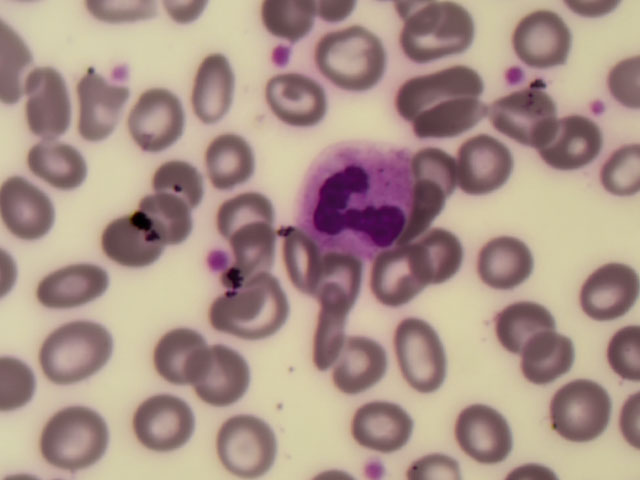Platelets: (361, 461, 399, 480), (270, 40, 295, 68), (205, 249, 232, 268), (504, 64, 524, 86), (109, 61, 130, 80), (588, 98, 607, 118)
RBC: (292, 136, 418, 250), (19, 69, 78, 122), (29, 135, 88, 188), (7, 184, 66, 237), (48, 260, 107, 313), (51, 326, 110, 379), (39, 404, 98, 457), (121, 398, 180, 451), (147, 331, 206, 384), (184, 350, 243, 403), (224, 286, 283, 339), (236, 221, 295, 274), (209, 184, 268, 237), (198, 134, 257, 187), (189, 50, 248, 103), (129, 85, 188, 138), (155, 148, 214, 201), (132, 193, 191, 246), (98, 222, 157, 275), (272, 241, 331, 294), (301, 253, 360, 306), (310, 311, 369, 364), (342, 339, 401, 392), (385, 329, 444, 382), (359, 402, 418, 455), (362, 251, 421, 304), (409, 225, 468, 278), (416, 146, 475, 199), (461, 131, 520, 184), (419, 96, 478, 149), (414, 44, 473, 97), (327, 27, 386, 80), (270, 71, 329, 124), (511, 7, 570, 60), (505, 88, 564, 141), (541, 110, 600, 163), (480, 236, 539, 289), (492, 297, 551, 350), (515, 330, 574, 383), (463, 401, 522, 454), (547, 388, 606, 441), (581, 259, 640, 312)
